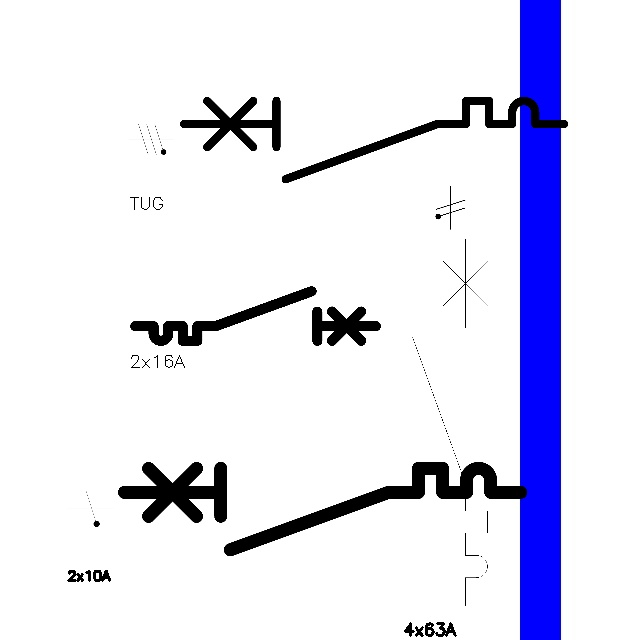interruptor_termomagnetico: (114, 458, 531, 560), (174, 91, 573, 188), (403, 229, 497, 614), (129, 285, 382, 347)
